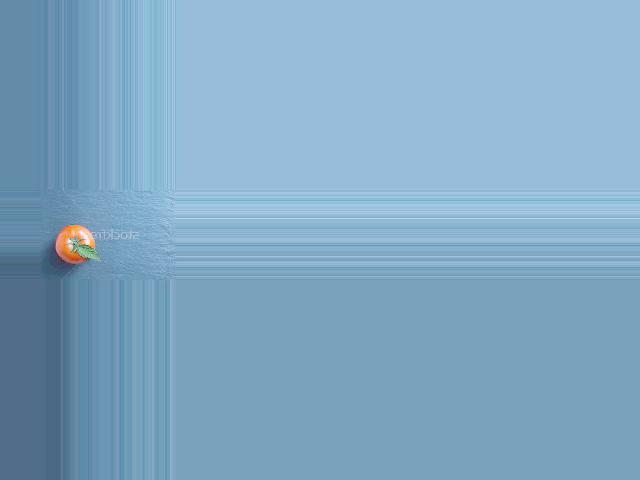tomato: (55, 225, 95, 263)
